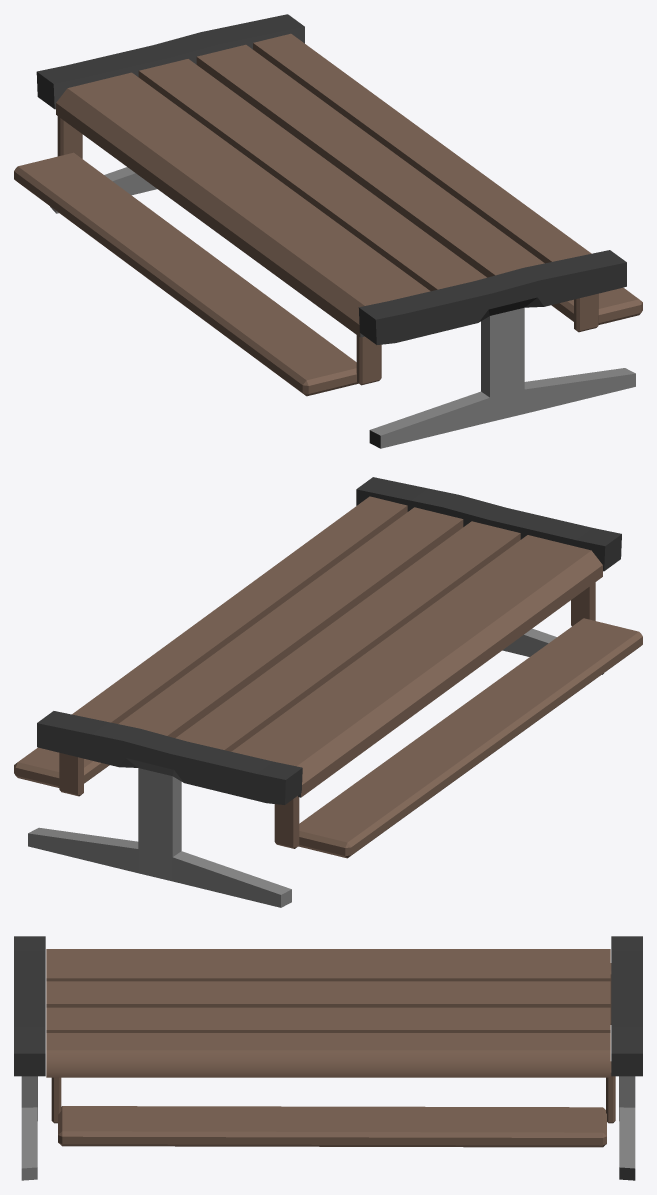
Rendered from PicnicTable.fbx.
The picture shows the model from 3 angles, top to bottom: view 1: azimuth 30°, elevation 25°; view 2: azimuth 150°, elevation 25°; view 3: azimuth 270°, elevation 25°; orthographic projection. The views are drawn at different scales.
Parts seen in each view (by area): view 1: StreetsXChair, pCube1, pCube6, pCube3, pCube4, pCube2; view 2: StreetsXChair, pCube1, pCube6, pCube2, pCube5, pCube3; view 3: StreetsXChair, pCube6, pCube5, pCube4.
Boxes of the visible parts, x1,y1,x2,y2 form: StreetsXChair: (36, 14, 635, 448); pCube1: (14, 152, 358, 396); pCube6: (551, 287, 642, 324); pCube3: (356, 335, 381, 385); pCube4: (574, 293, 598, 332); pCube2: (57, 116, 82, 158); StreetsXChair: (28, 477, 621, 907); pCube1: (298, 618, 642, 858); pCube6: (14, 747, 109, 787); pCube2: (274, 796, 299, 848); pCube5: (59, 752, 83, 796); pCube3: (571, 582, 595, 626); StreetsXChair: (14, 936, 642, 1180); pCube6: (58, 1106, 606, 1147); pCube5: (606, 1061, 615, 1123); pCube4: (51, 1077, 61, 1123).
Bounding box in the file's own units: 7.74 × 2.9 × 13.26.
